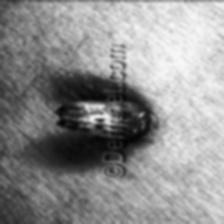Toxin: (49, 94, 107, 142), (126, 90, 160, 148)
